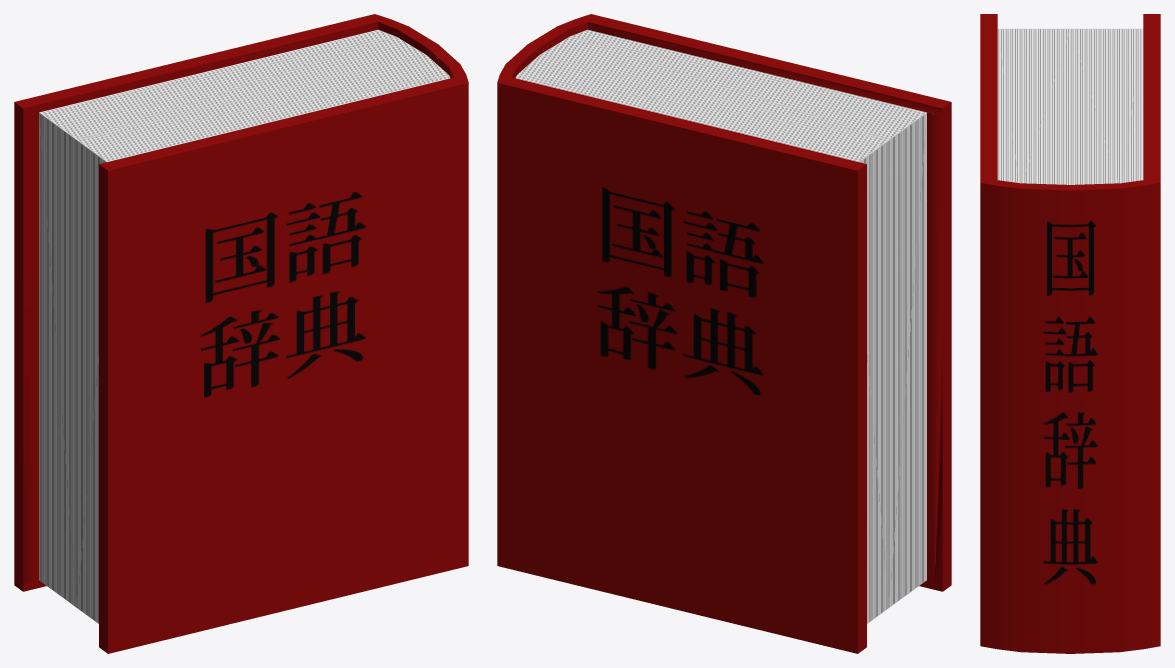
File: book2.obj
3 renders of one model, left to right at view 1: azimuth 30°, elevation 25°; view 2: azimuth 150°, elevation 25°; view 3: azimuth 270°, elevation 25°, orthographic. The views are drawn at different scales.
Visible parts, largest first — view 1: book1.001; view 2: book1.001; view 3: book1.001.
Part boxes in pixels (left/top/right/bottom): book1.001: left=14, top=14, right=468, bottom=653; book1.001: left=497, top=14, right=951, bottom=653; book1.001: left=980, top=14, right=1160, bottom=653.
Size of the model in its own units: 0.8168 by 1 by 0.3523.
